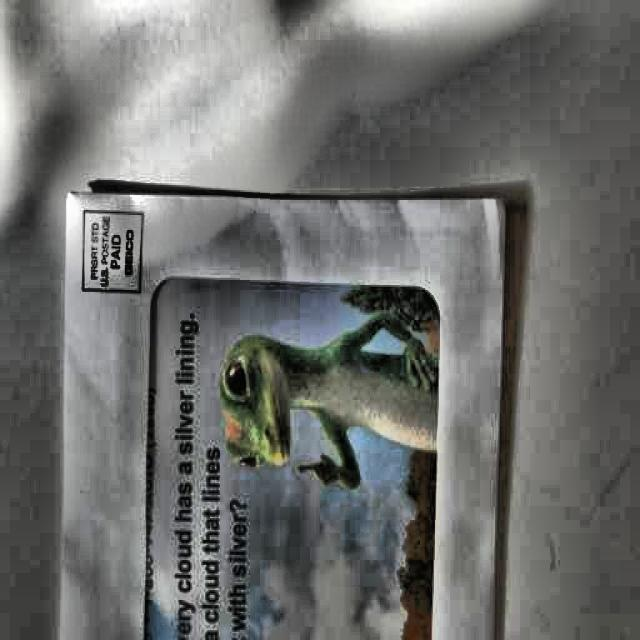paper: (58, 187, 515, 640)
